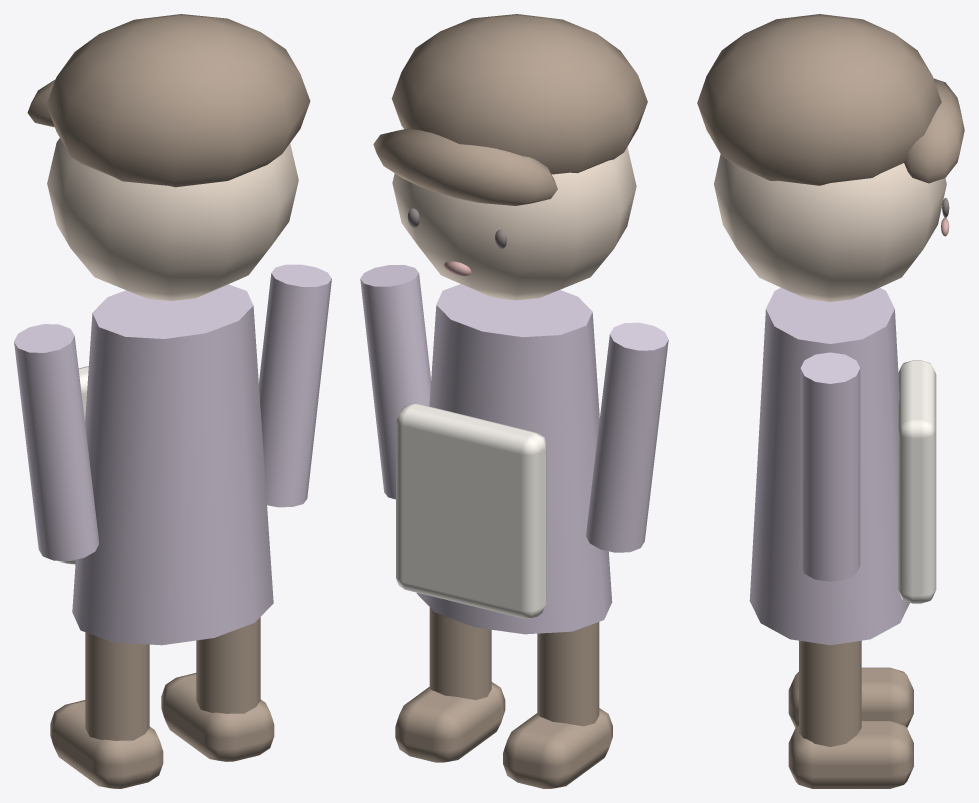
Rendered from generic-staff-w1_1.glb.
3 renders of one model, left to right at view 1: azimuth 30°, elevation 25°; view 2: azimuth 150°, elevation 25°; view 3: azimuth 270°, elevation 25°, orthographic. The views are drawn at different scales.
Visible parts, largest first — view 1: generic-staff-w1_1.material0, generic-staff-w1_1.material2, generic-staff-w1_1.material3; view 2: generic-staff-w1_1.material2, generic-staff-w1_1.material0, generic-staff-w1_1.material1, generic-staff-w1_1.material3; view 3: generic-staff-w1_1.material2, generic-staff-w1_1.material0, generic-staff-w1_1.material3, generic-staff-w1_1.material1.
Boxes of the visible parts, bbox=[...] form: generic-staff-w1_1.material0: bbox=[14, 264, 331, 645]; generic-staff-w1_1.material2: bbox=[27, 14, 310, 788]; generic-staff-w1_1.material3: bbox=[47, 138, 298, 300]; generic-staff-w1_1.material2: bbox=[373, 14, 647, 788]; generic-staff-w1_1.material0: bbox=[360, 265, 668, 634]; generic-staff-w1_1.material1: bbox=[396, 404, 546, 618]; generic-staff-w1_1.material3: bbox=[392, 147, 636, 300]; generic-staff-w1_1.material2: bbox=[697, 14, 964, 788]; generic-staff-w1_1.material0: bbox=[749, 287, 909, 645]; generic-staff-w1_1.material3: bbox=[714, 154, 946, 301]; generic-staff-w1_1.material1: bbox=[897, 360, 936, 603].
Size of the model in its own units: 0.586 by 1.34 by 0.448.
